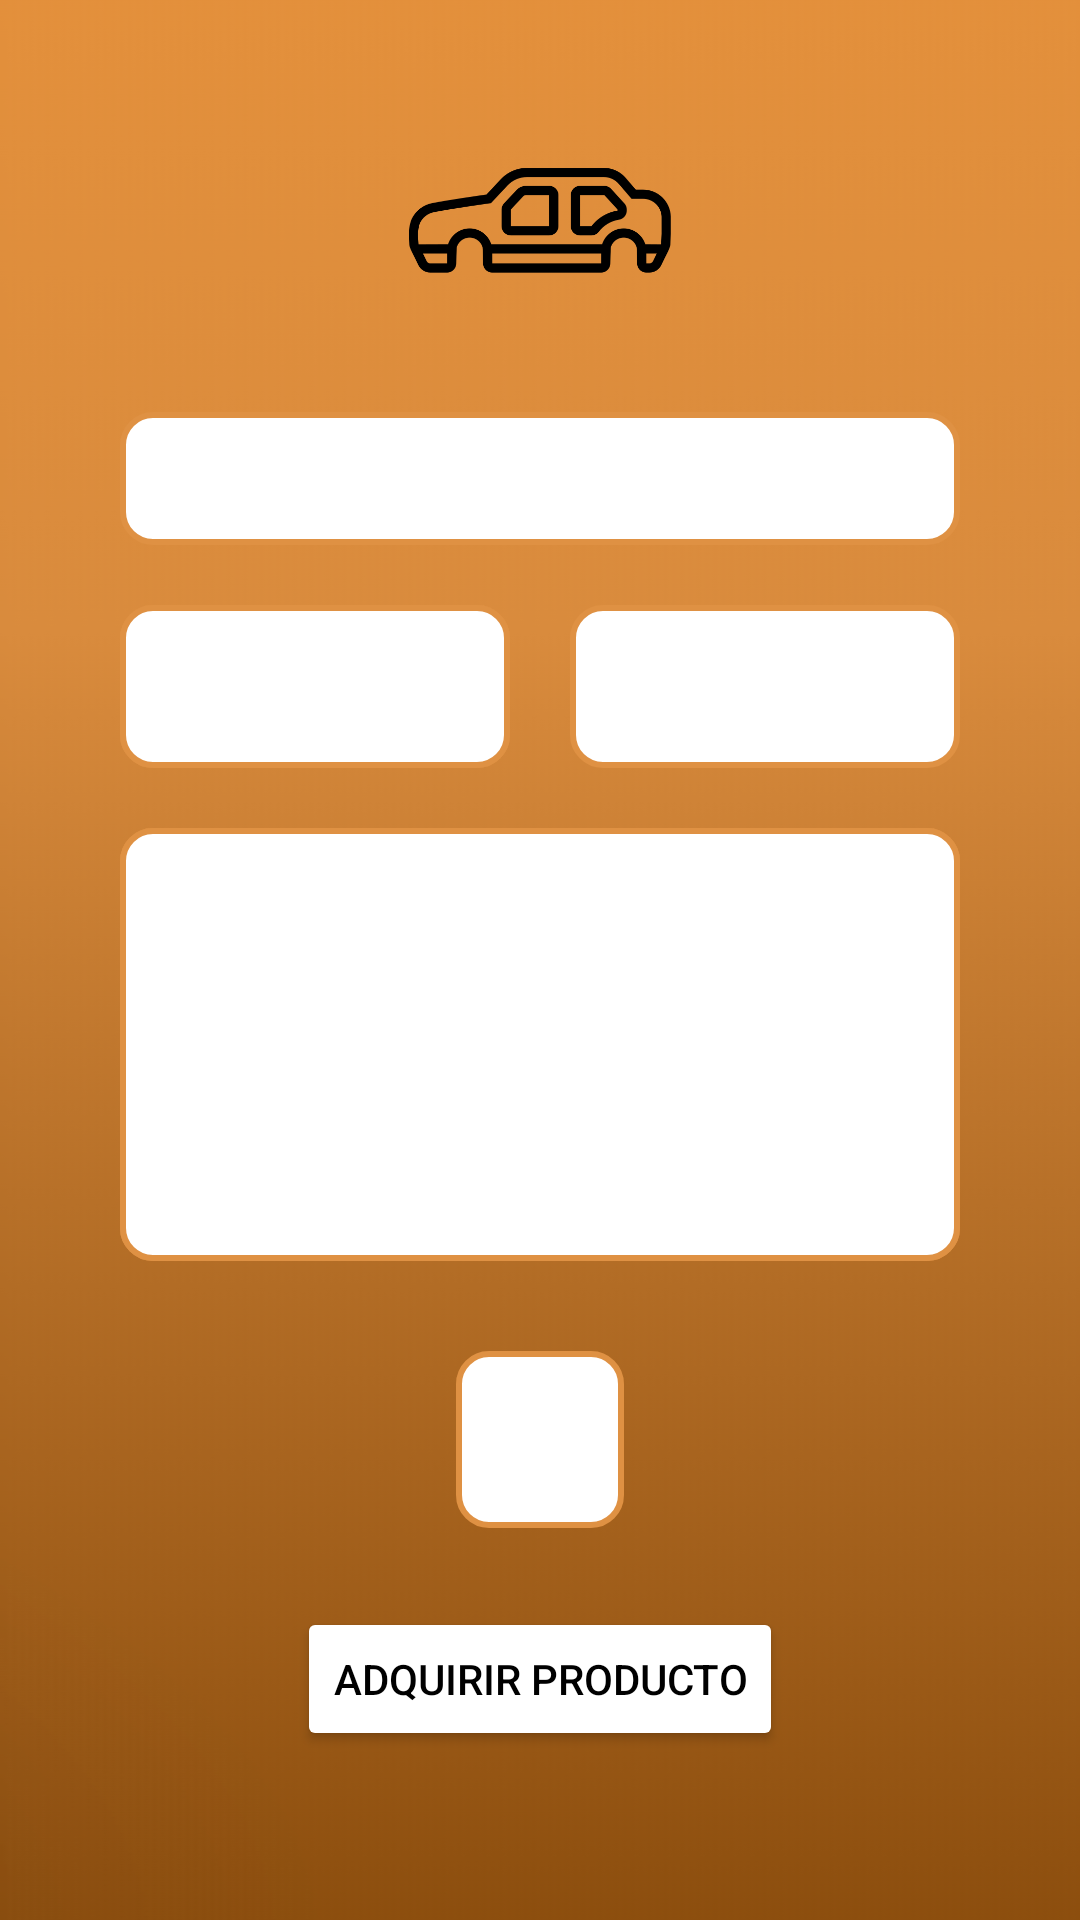

Icon bounding boxes for this 1080×1920 phone screenshot, format (x1, y1, x2, y2):
chasis: (409, 168, 671, 273)
